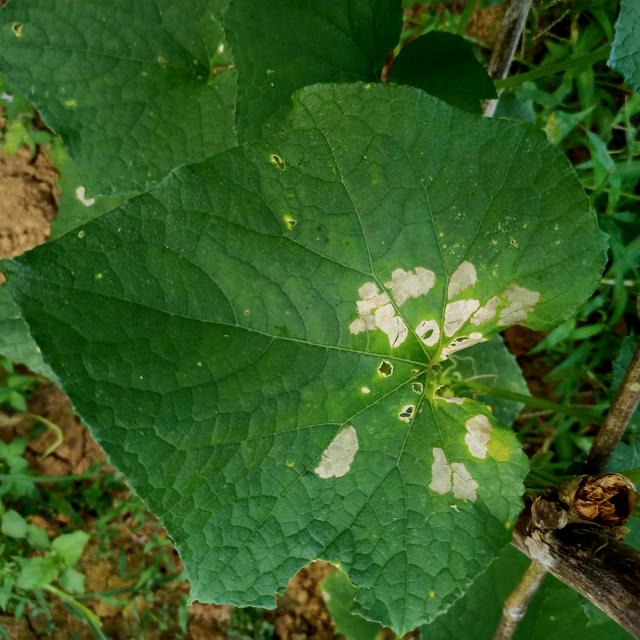disease_cucumber: (347, 258, 544, 362), (427, 442, 480, 506), (312, 422, 365, 482), (462, 414, 494, 460), (396, 378, 427, 423), (376, 359, 395, 380)
